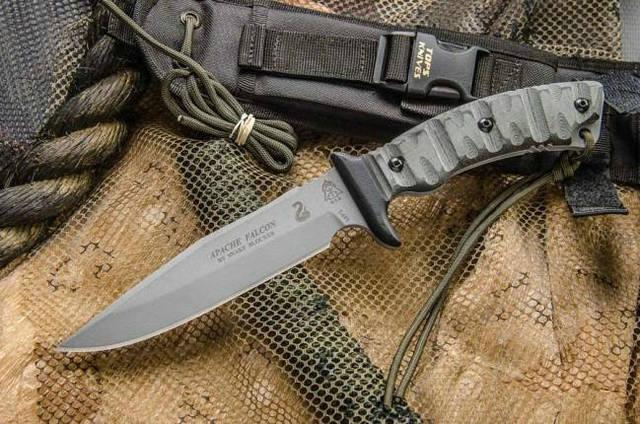knife: (21, 85, 595, 371)
